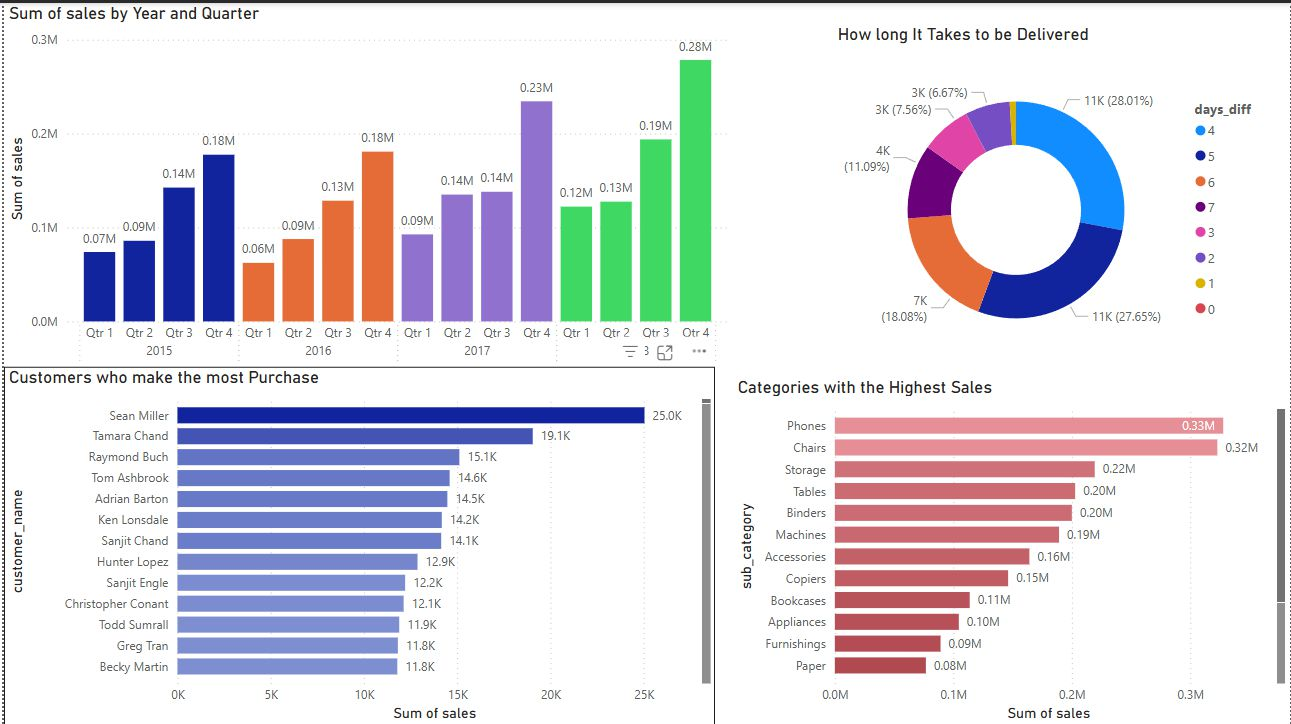

Layout of this report page (visuals, bound fields, positions):
{"tool":"powerbi","page":{"name":"Sales","canvas":[1280,720],"ordinal":2},"visuals":[{"type":"clusteredColumnChart","fields":{"Category":["public fact_sale.order_date.Variation.Date Hierarchy.Year","public fact_sale.order_date.Variation.Date Hierarchy.Quarter"],"Y":["public fact_sale.sales"]},"box":[0,0,725.2,381.9],"z":0},{"type":"donutChart","title":"How long It Takes to be Delivered","fields":{"Y":["public fact_sale.days_diff"],"Category":["public fact_sale.days_diff"]},"box":[824.7,21.1,439.1,350.8],"z":1000},{"type":"clusteredBarChart","title":"Customers who make the most Purchase","fields":{"Category":["public dim_customer.customer_name"],"Y":["public fact_sale.sales"]},"box":[0,362,707.8,358.3],"z":2000},{"type":"clusteredBarChart","title":"Categories with the Highest Sales","fields":{"Y":["public fact_sale.sales"],"Category":["public dim_product.sub_category"]},"box":[725.2,371.9,554.8,348.3],"z":3000}]}

Visuals, with their boxes in screenshot pixels (x1, y1, x2, y2), scaled from the page's 1280x720 canvas onto the 1291x724 screenshot:
clusteredColumnChart - public fact_sale.order_date.Variation.Date Hierarchy.Year x public fact_sale.order_date.Variation.Date Hierarchy.Quarter: <bbox>0, 0, 731, 384</bbox>
"How long It Takes to be Delivered" donutChart: <bbox>832, 21, 1275, 374</bbox>
"Customers who make the most Purchase" clusteredBarChart: <bbox>0, 364, 714, 723</bbox>
"Categories with the Highest Sales" clusteredBarChart: <bbox>731, 374, 1290, 723</bbox>
